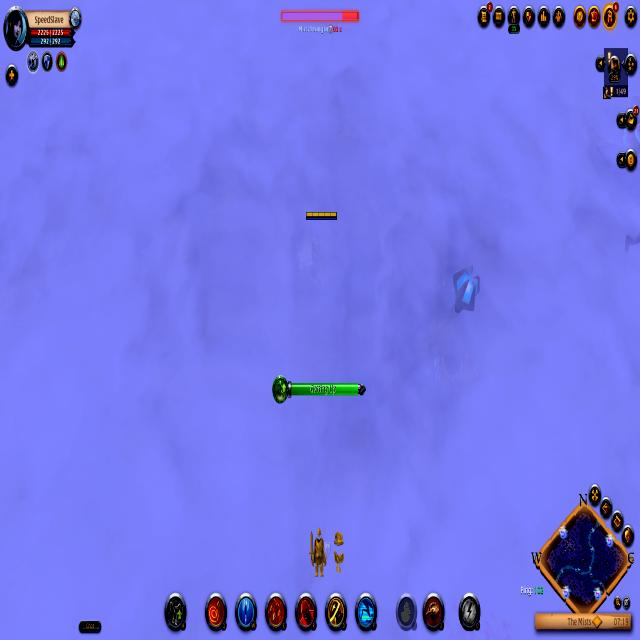10: (446, 254, 492, 334)
red: (300, 202, 344, 236)
